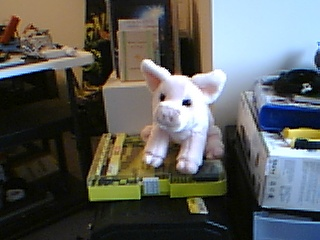piggy: (138, 57, 228, 174)
